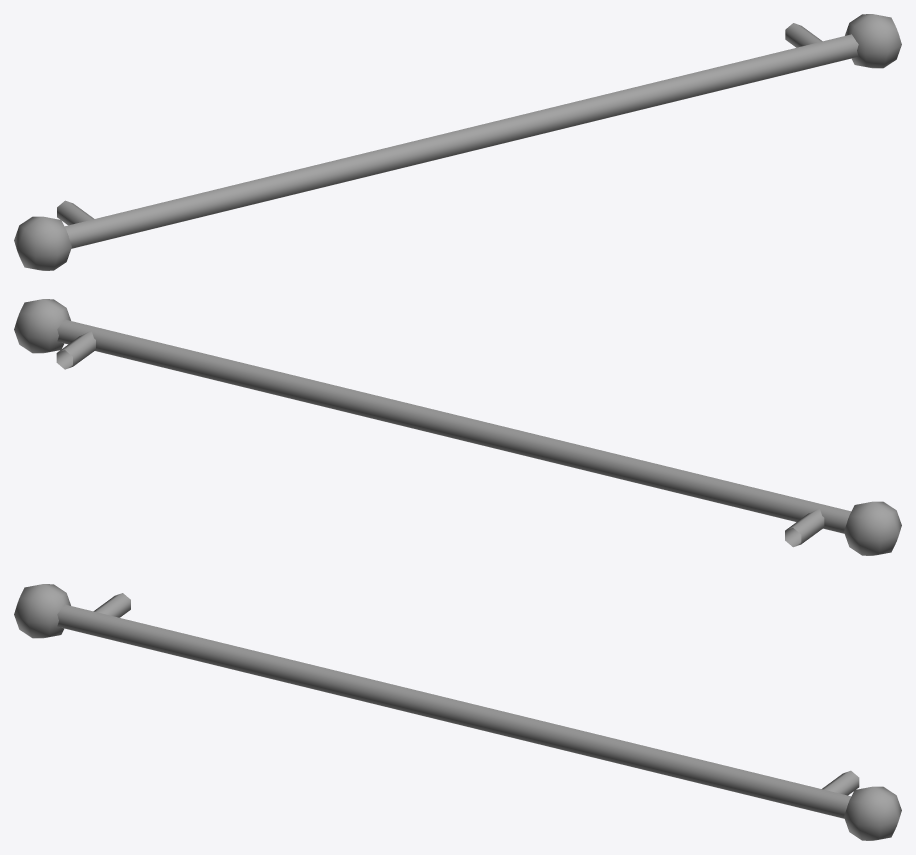
The model's file is curtain_003.fbx.
The picture shows the model from 3 angles, top to bottom: view 1: azimuth 30°, elevation 25°; view 2: azimuth 150°, elevation 25°; view 3: azimuth 330°, elevation 25°; orthographic projection.
Visible parts, largest first — view 1: curtain_003; view 2: curtain_003; view 3: curtain_003.
Boxes of the visible parts, left/top/right/bottom form: curtain_003: left=14, top=14, right=901, bottom=270; curtain_003: left=14, top=299, right=901, bottom=555; curtain_003: left=14, top=584, right=901, bottom=840.
Bounding box in the file's own units: 380 × 32.67 × 22.38.
